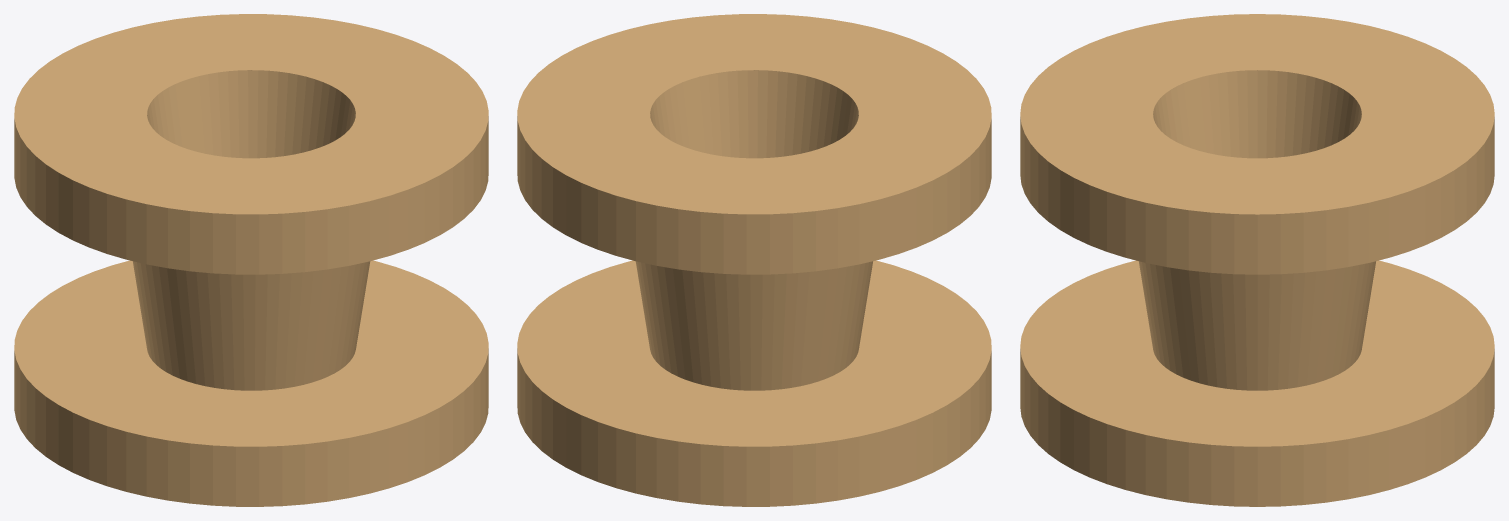
The model's file is board.glb.
The picture shows the model from 3 angles, left to right: view 1: azimuth 30°, elevation 25°; view 2: azimuth 150°, elevation 25°; view 3: azimuth 270°, elevation 25°; orthographic projection.
Parts seen in each view (by area): view 1: Unified_Net_1_Island_0 (×2), Bare_Via_Tube_0; view 2: Unified_Net_1_Island_0 (×2), Bare_Via_Tube_0; view 3: Unified_Net_1_Island_0 (×2), Bare_Via_Tube_0.
Part boxes in pixels (x1=…): Unified_Net_1_Island_0 (×2): x1=14, y1=14, x2=488, y2=506; Bare_Via_Tube_0: x1=14, y1=14, x2=488, y2=390; Unified_Net_1_Island_0 (×2): x1=517, y1=14, x2=991, y2=506; Bare_Via_Tube_0: x1=517, y1=14, x2=991, y2=390; Unified_Net_1_Island_0 (×2): x1=1020, y1=14, x2=1494, y2=506; Bare_Via_Tube_0: x1=1020, y1=14, x2=1494, y2=390.
Bounding box in the file's own units: 0.00025 × 0.00017 × 0.00025.
